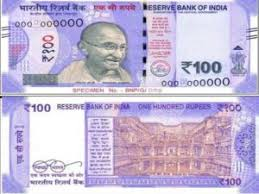hundred: (11, 13, 236, 80)
